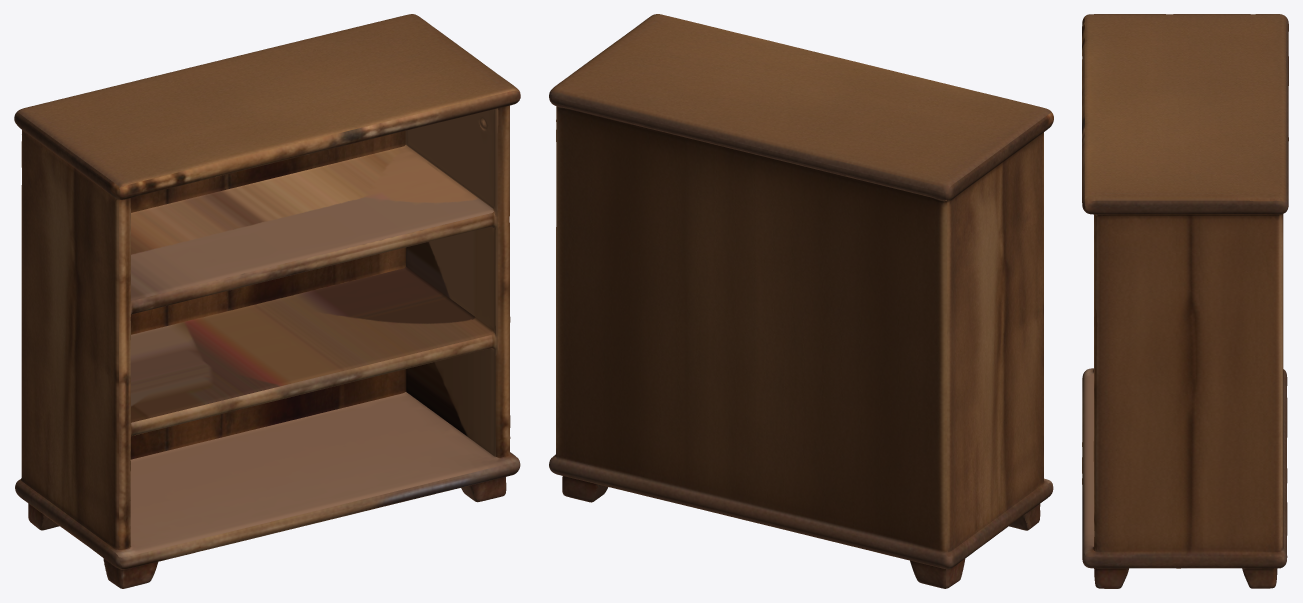
3 renders of one model, left to right at view 1: azimuth 30°, elevation 25°; view 2: azimuth 150°, elevation 25°; view 3: azimuth 270°, elevation 25°, orthographic. The views are drawn at different scales.
Visible parts, largest first — view 1: tmpayy9f6iu.ply; view 2: tmpayy9f6iu.ply; view 3: tmpayy9f6iu.ply.
Part boxes in pixels (x1,y1,x2,y2): tmpayy9f6iu.ply: (14,14,520,588); tmpayy9f6iu.ply: (549,14,1053,588); tmpayy9f6iu.ply: (1082,14,1288,588).
Bounding box in the file's own units: 1.99 × 1.94 × 0.9212.
Materials: 1 (1 with a texture image).
